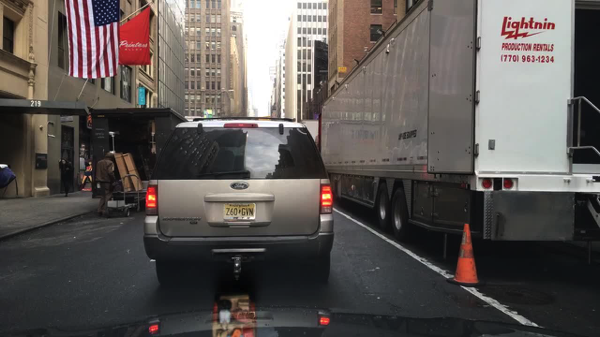car: (144, 120, 331, 286)
person: (95, 153, 118, 218), (59, 159, 74, 196)
traffic sign: (138, 88, 147, 106)
truck: (314, 1, 599, 271)
